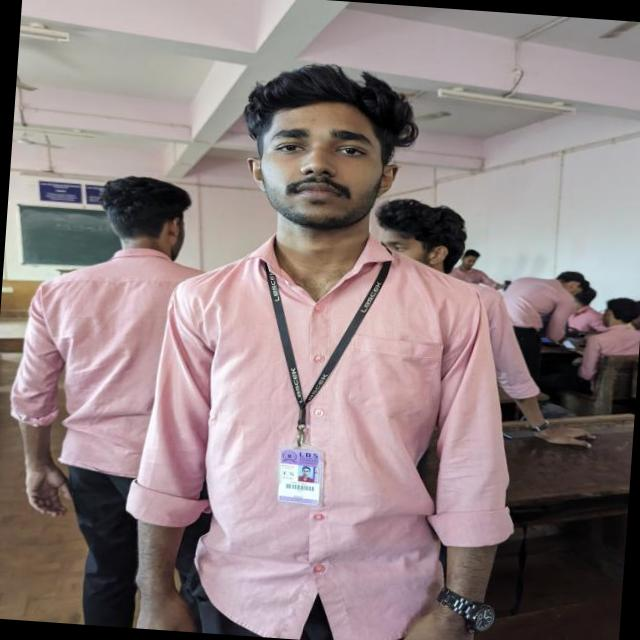id_card: (250, 257, 381, 509)
